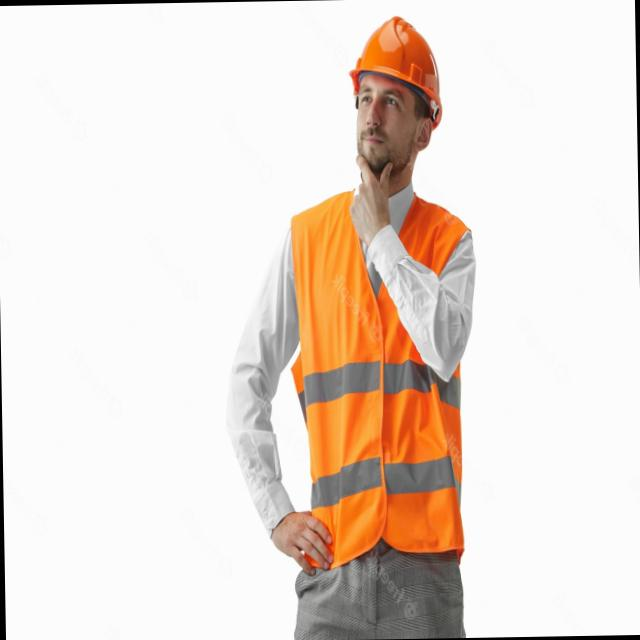helmet: (348, 12, 442, 111)
no-goggles: (342, 80, 429, 127)
vest: (286, 190, 479, 562)
